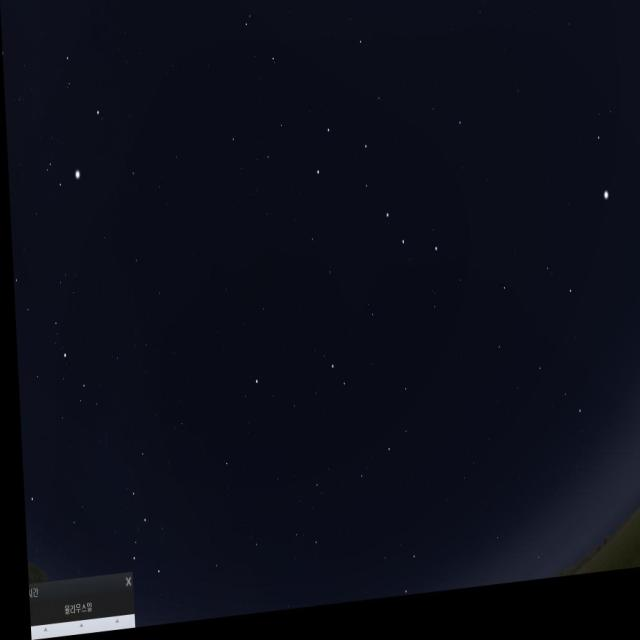cassiopeia: (112, 436, 166, 590)
ursa_major: (304, 109, 438, 290)
